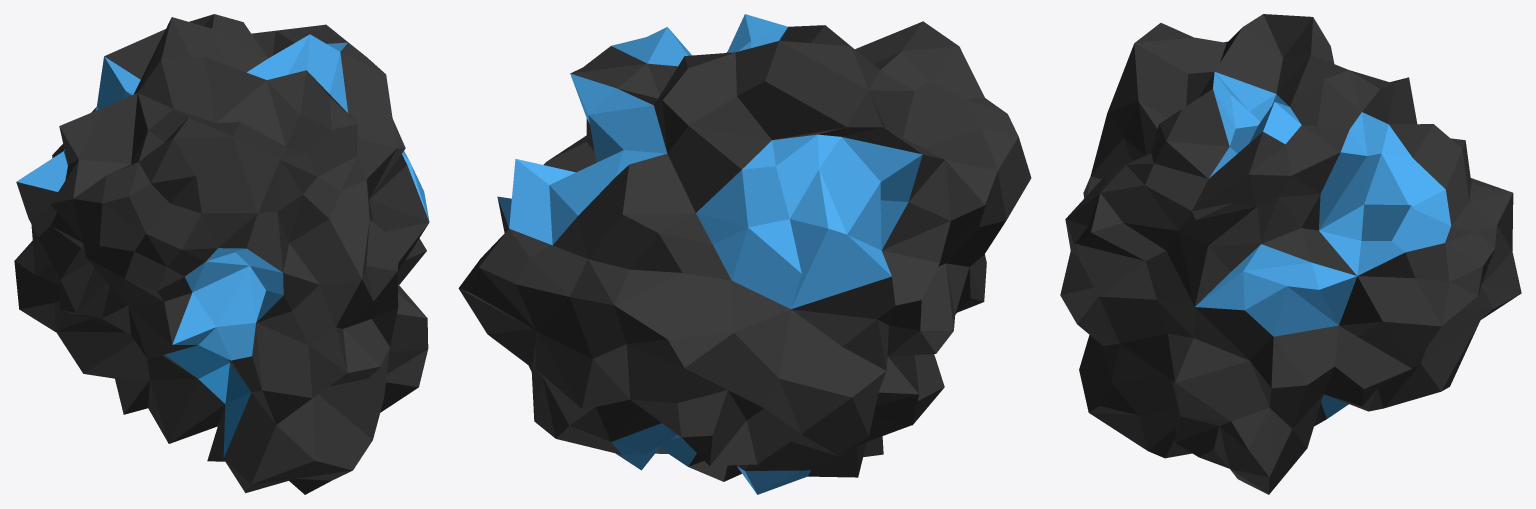
Rendered from Asteroid_3.fbx.
3 views of the same model, side by side, from view 1: azimuth 30°, elevation 25°; view 2: azimuth 150°, elevation 25°; view 3: azimuth 270°, elevation 25° (orthographic). The views are drawn at different scales.
Visible parts, largest first — view 1: Asteroid_3; view 2: Asteroid_3; view 3: Asteroid_3.
Part boxes in pixels (x1,y1,x2,y2): Asteroid_3: (14,14,429,494); Asteroid_3: (458,14,1031,494); Asteroid_3: (1060,14,1521,494).
Bounding box in the file's own units: 595 × 643 × 647.
